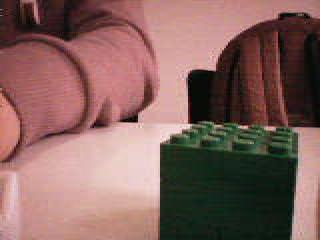legocube: (155, 119, 303, 240)
